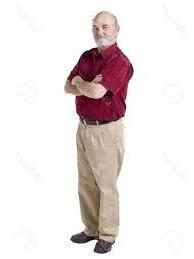Human: (63, 9, 131, 254)
